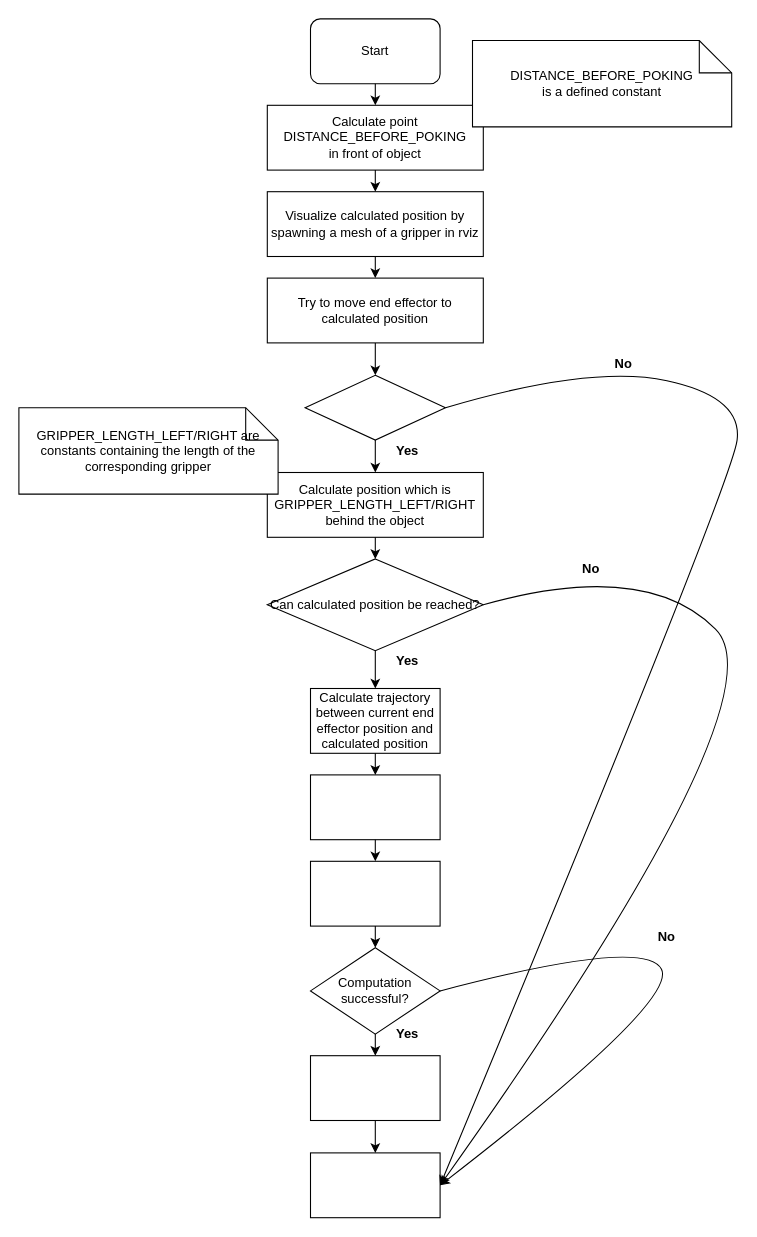
This 757x1237 diagram has some shape labels left out. The box of each missing label's shape, as (x1, y1, x2, y2) in pixels:
Compute cartesian path from trajectory: (309, 860, 440, 926)
Execute computed path: (309, 1055, 440, 1120)
Moved successfully?: (304, 374, 446, 440)
Remove spawned meshes and return result of executed action: (309, 1152, 440, 1218)
Visualize calculated trajectory by spawning gripper meshes in rviz: (309, 774, 440, 840)
